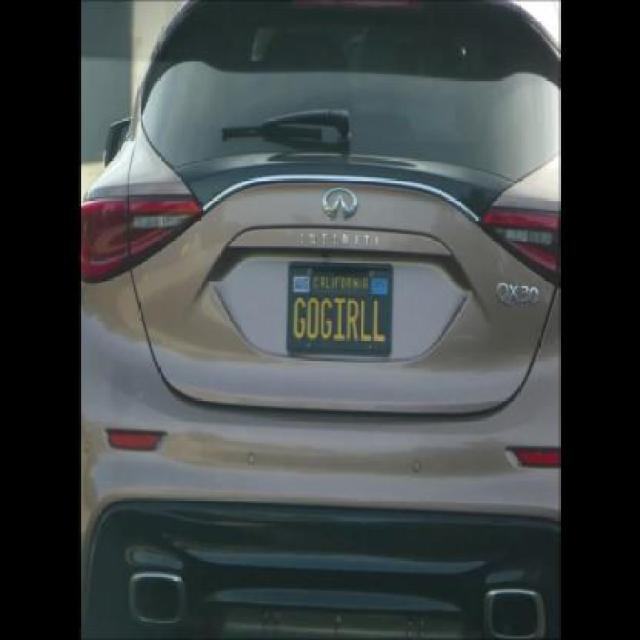licenseplate: (290, 252, 395, 354)
